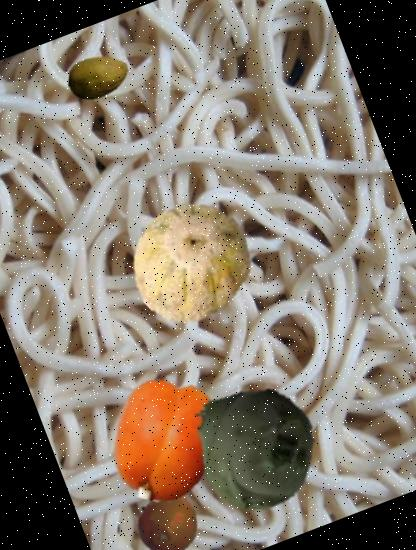Apricot: (86, 362, 244, 520)
Cantaloupe: (110, 182, 269, 341)
Kohlrabi: (166, 363, 335, 531)
Papaya: (59, 40, 137, 118)
Tangelo: (126, 483, 207, 550)
